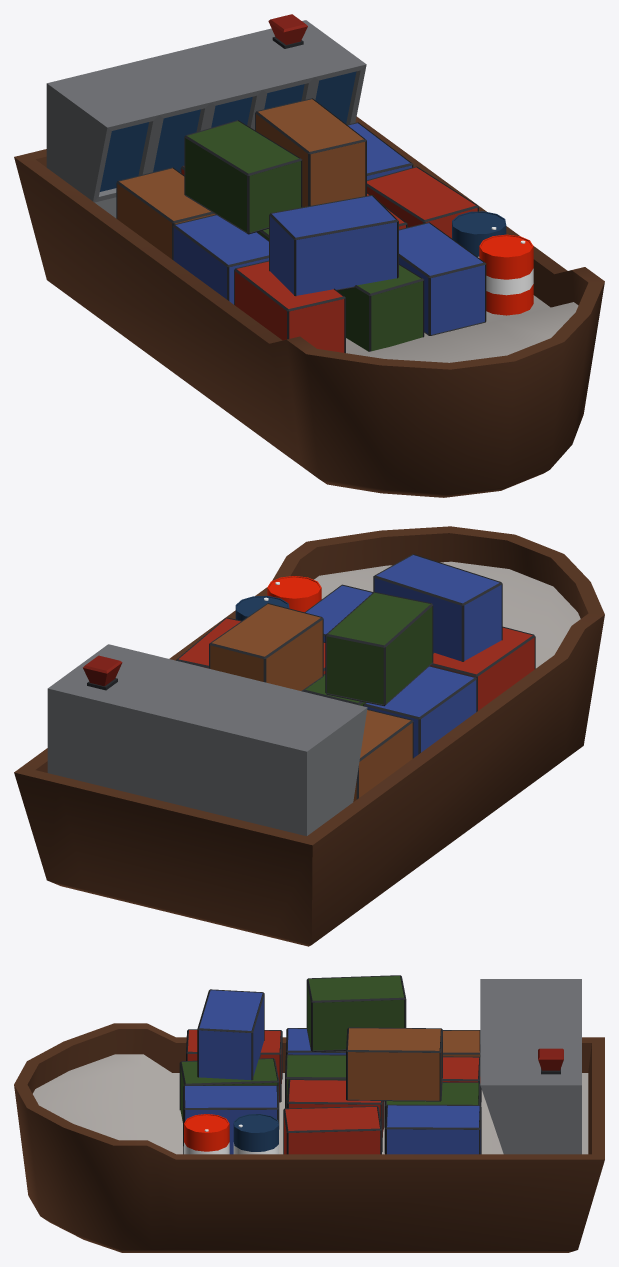
Rendered from TransitShip_2.fbx.
The picture shows the model from 3 angles, top to bottom: view 1: azimuth 30°, elevation 25°; view 2: azimuth 150°, elevation 25°; view 3: azimuth 270°, elevation 25°; orthographic projection. The views are drawn at different scales.
Parts seen in each view (by area): view 1: TransitShip_2; view 2: TransitShip_2; view 3: TransitShip_2.
Boxes of the visible parts, x1,y1,x2,y2 form: TransitShip_2: (14, 14, 604, 497); TransitShip_2: (14, 526, 604, 946); TransitShip_2: (14, 975, 604, 1252).
Bounding box in the file's own units: 1035 × 738 × 2113.
